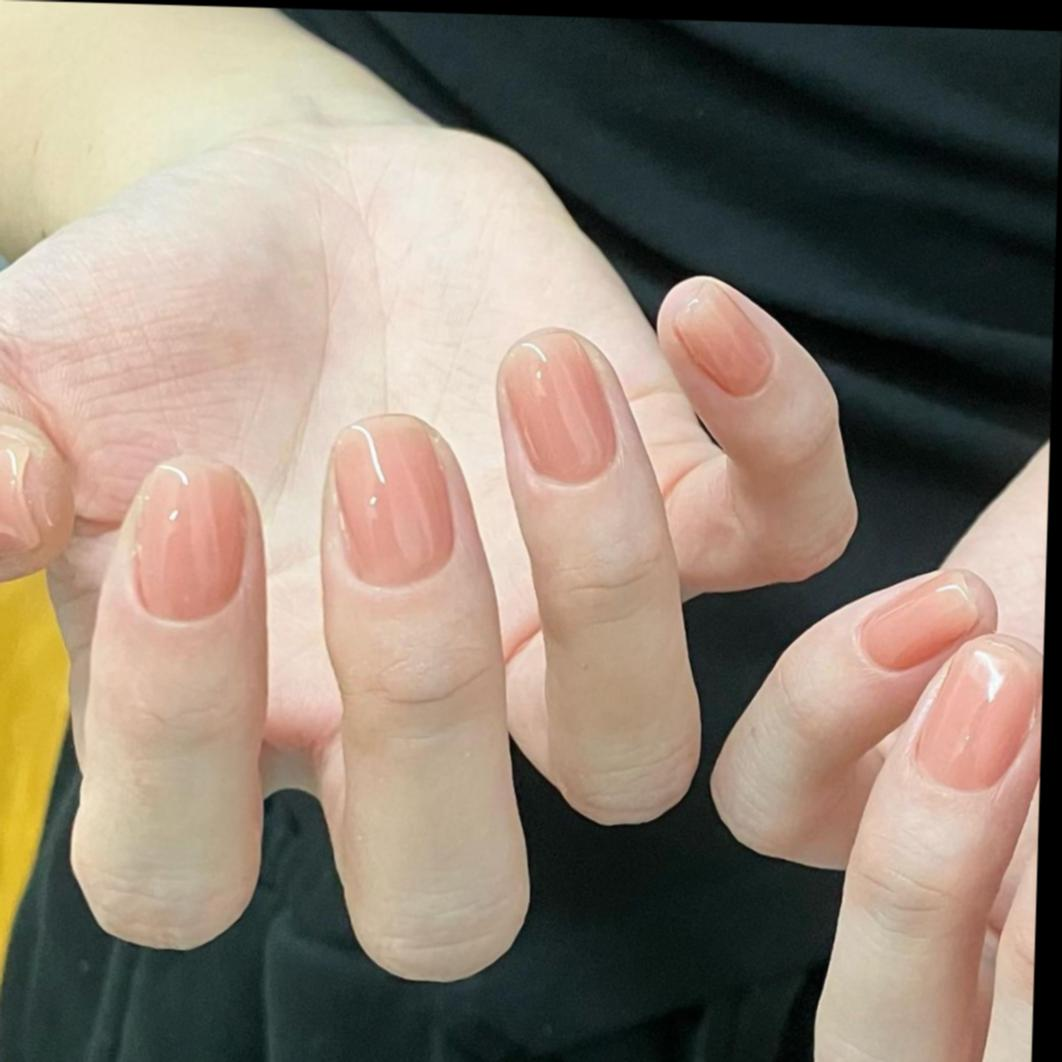nail: (324, 412, 458, 588), (910, 629, 1044, 794), (494, 325, 622, 488), (128, 453, 250, 624), (854, 569, 981, 675), (669, 280, 776, 399), (0, 433, 43, 557)
